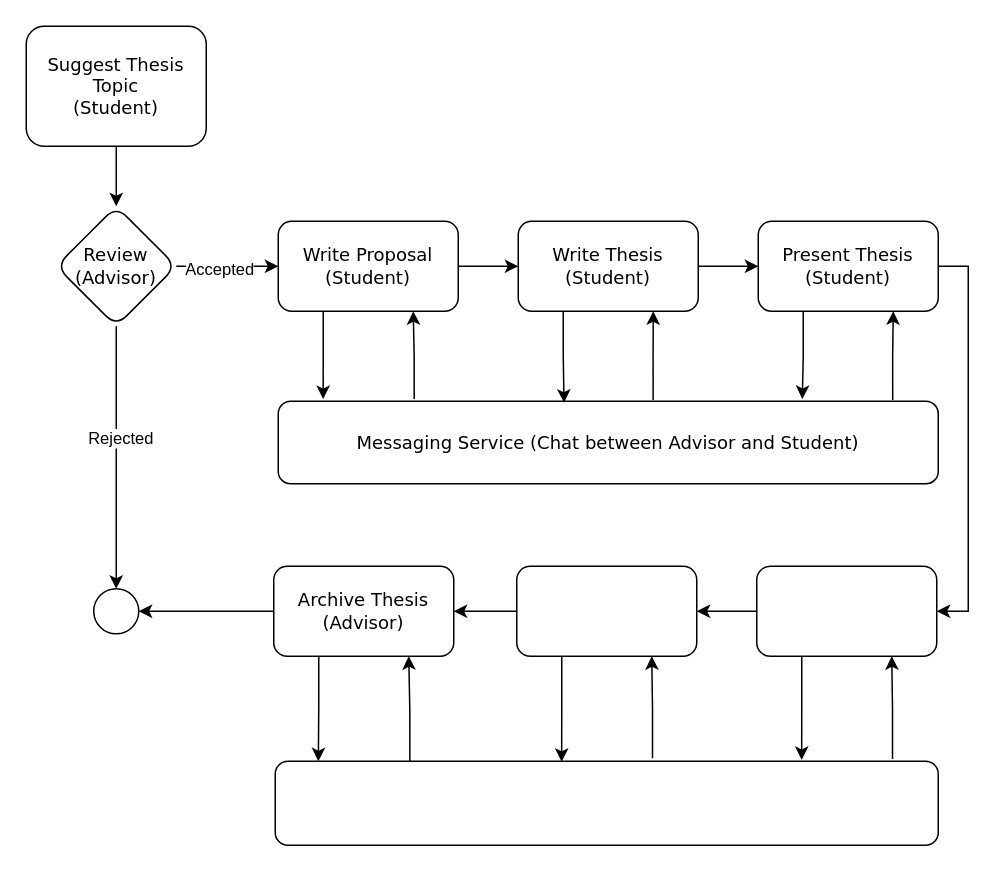
The diagram is 1007 pixels wide and 872 high, and some of its shapes have lost their labels. Each missing label, with the box of its shape:
Assess Thesis (Advisor): (755, 565, 937, 656)
Grade Thesis (Supervisor): (515, 565, 697, 656)
Messaging Service (Chat between Advisor and Supervisor): (274, 760, 938, 845)
